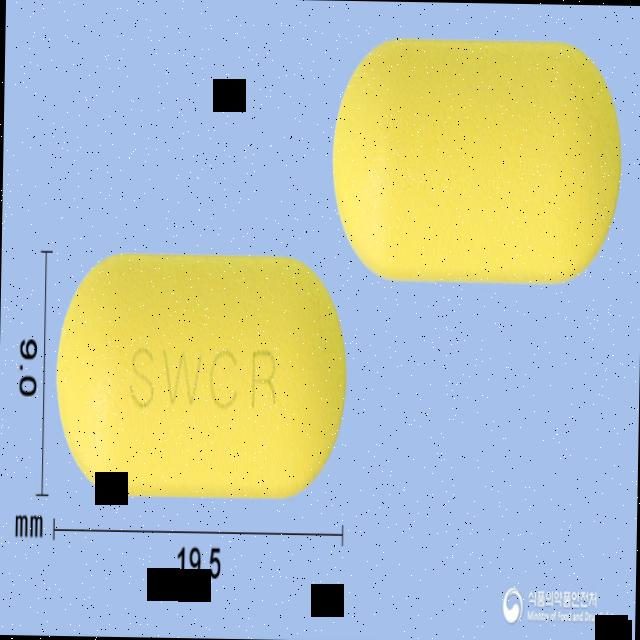Clath: (52, 247, 350, 502)
